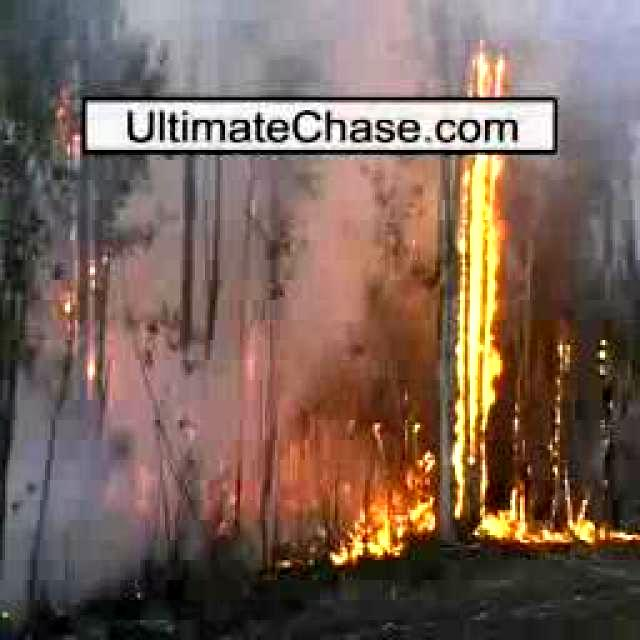Fire: (448, 156, 527, 545), (355, 407, 437, 558), (531, 529, 632, 551)
Smoke: (0, 159, 436, 620), (139, 0, 462, 99)
